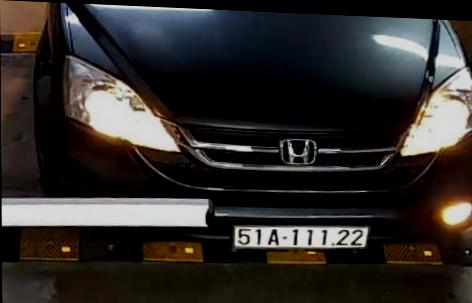License_Plate: (233, 214, 379, 261)
